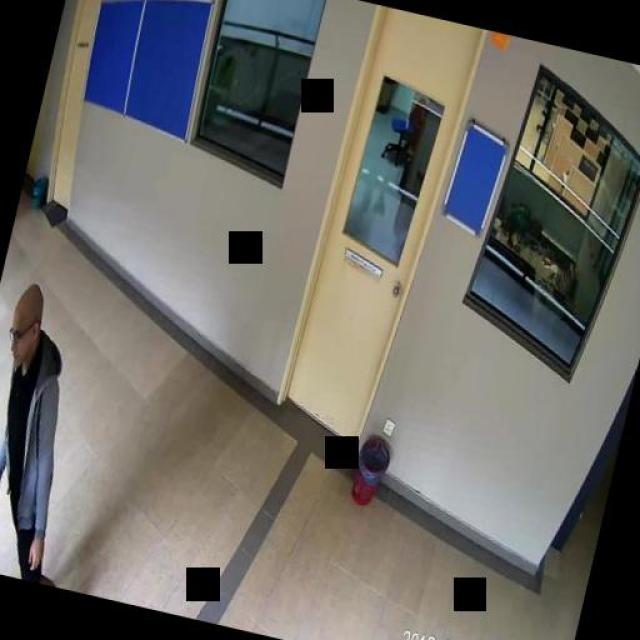gun: (0, 485, 8, 545)
